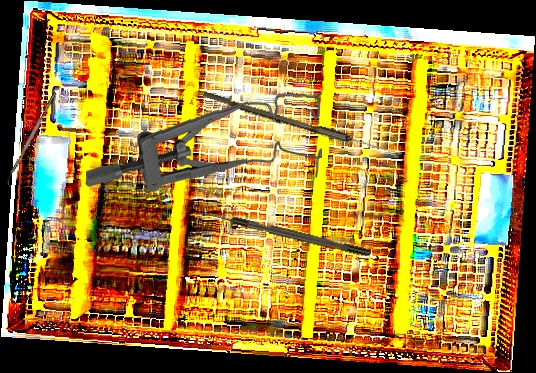Chopper: (3, 91, 61, 188)
Hook Surgical: (203, 208, 372, 259)
Speculum: (85, 85, 324, 199)
Surgical Spoon: (201, 91, 404, 159)
